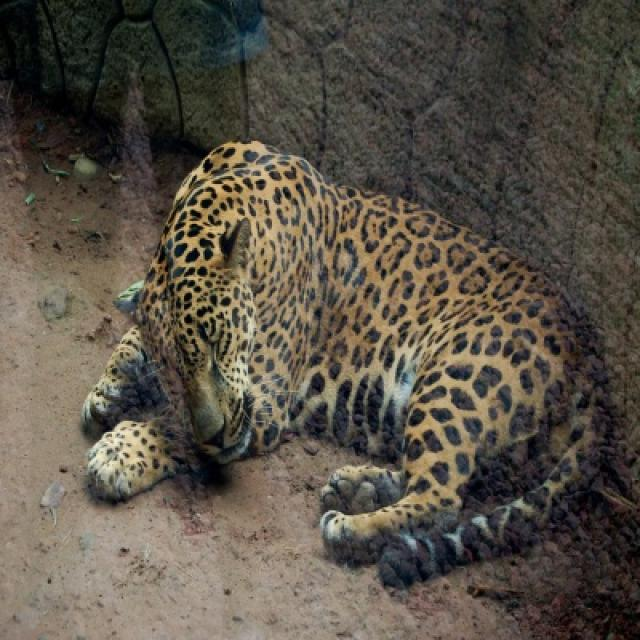Jaguar: (80, 142, 616, 592)
